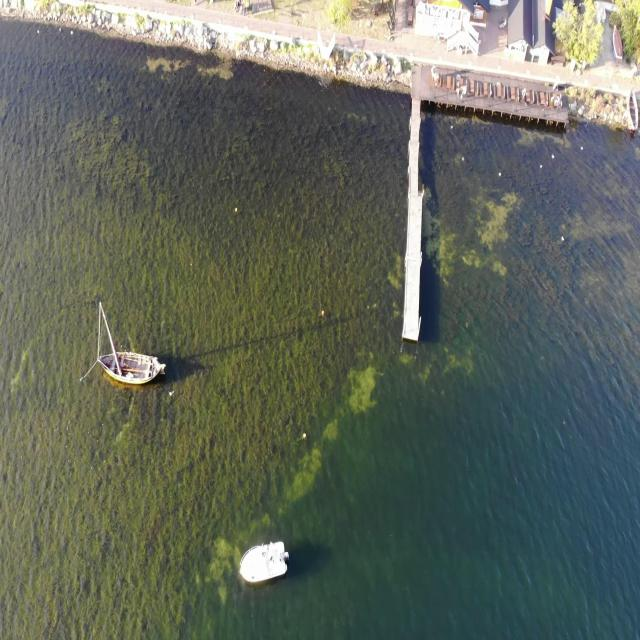boat: (238, 540, 290, 585)
bouy: (234, 204, 239, 214), (302, 431, 306, 440), (322, 308, 324, 318)
sailboat: (97, 298, 167, 394)
